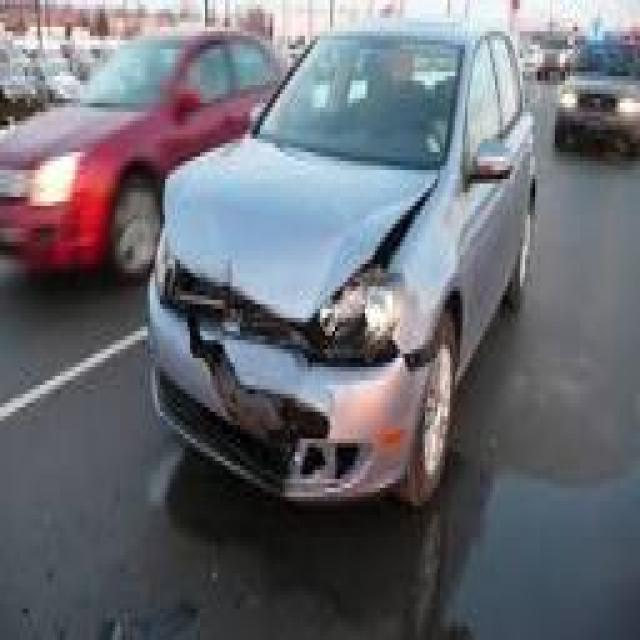replaceable: (167, 265, 317, 499), (321, 254, 402, 353)
